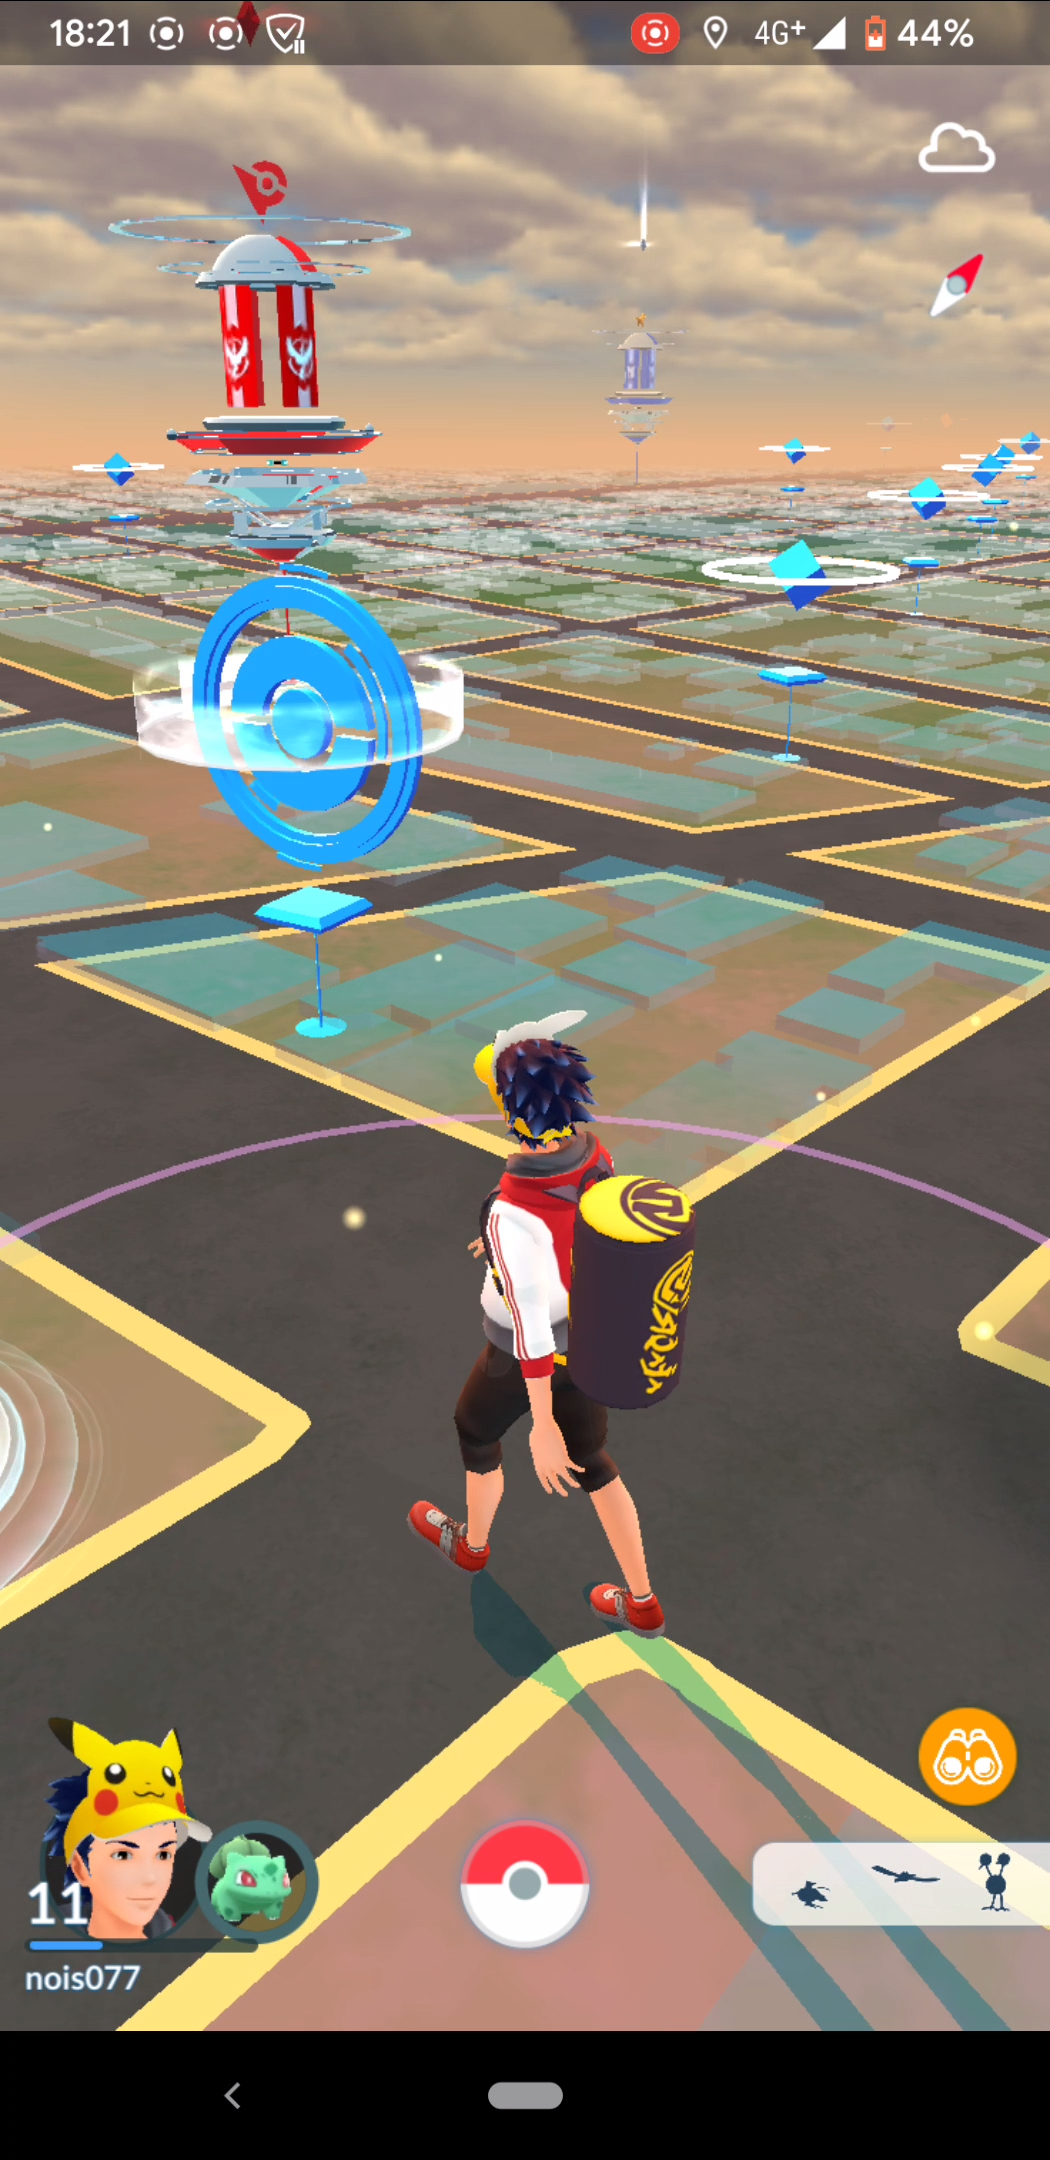pokestop: (186, 566, 424, 875)
